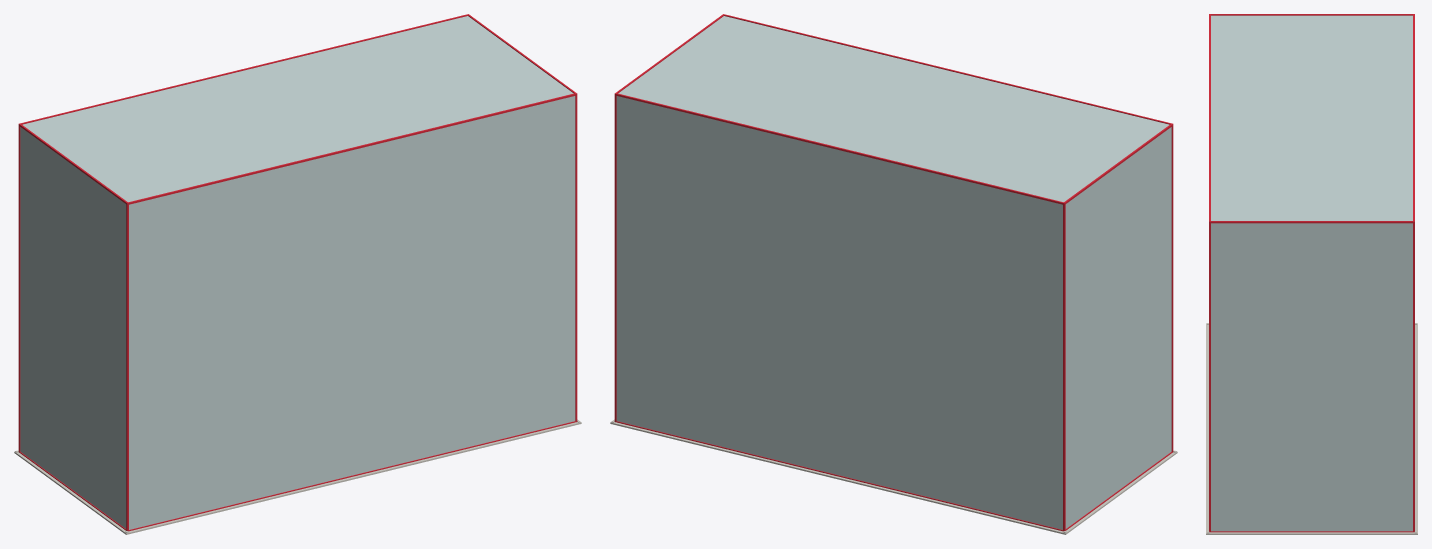
File: anti-aircraft-missile.glb
3 views of the same model, side by side, from view 1: azimuth 30°, elevation 25°; view 2: azimuth 150°, elevation 25°; view 3: azimuth 270°, elevation 25° (orthographic). The views are drawn at different scales.
Bounding box in the file's own units: 1.95 × 1.35 × 0.83.
